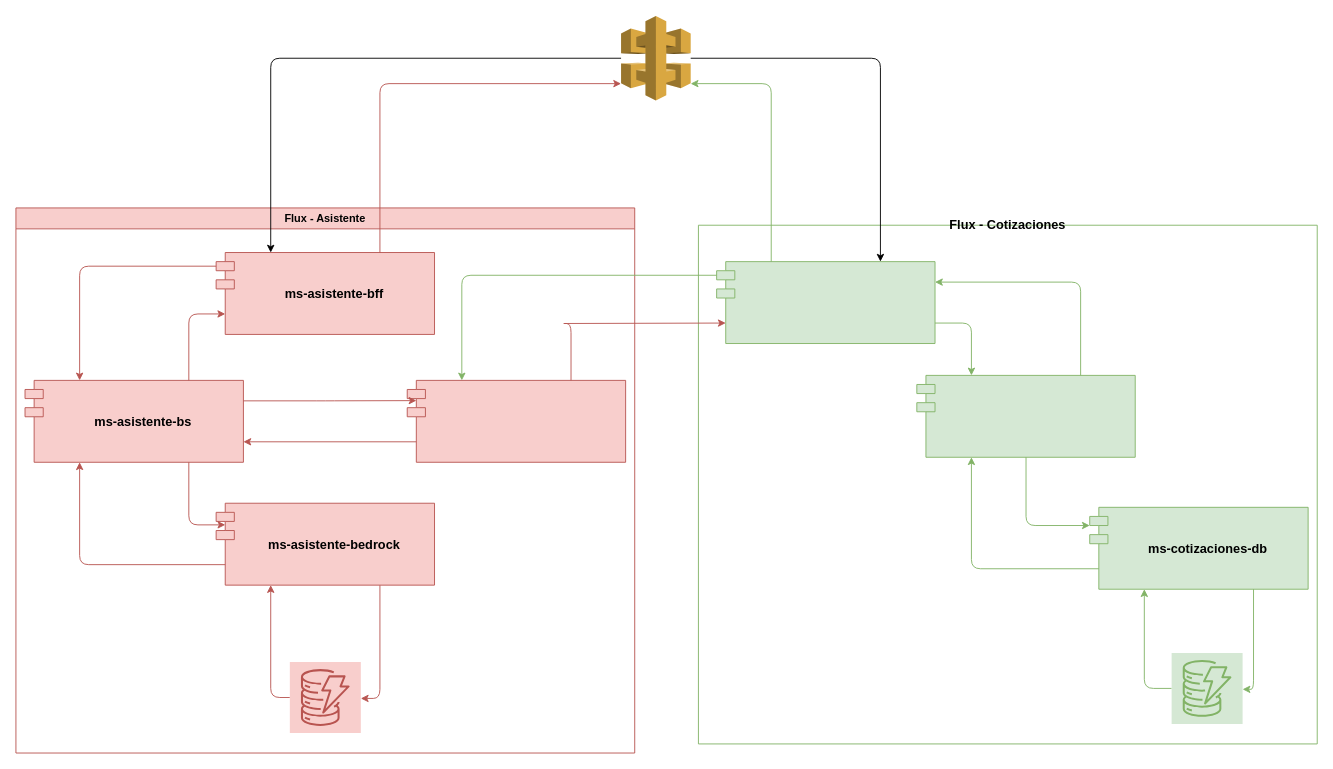
This 1333x769 diagram has some shape labels left out. Here are the shapes that lost their labels. From the top down, the centre of each, then its label:
At pixel 825 302: "ms-cotizaciones-bff".
At pixel 516 420: "ms-asistente-cotizaciones-amb".
At pixel 1025 415: "ms-cotizaciones-bs".
